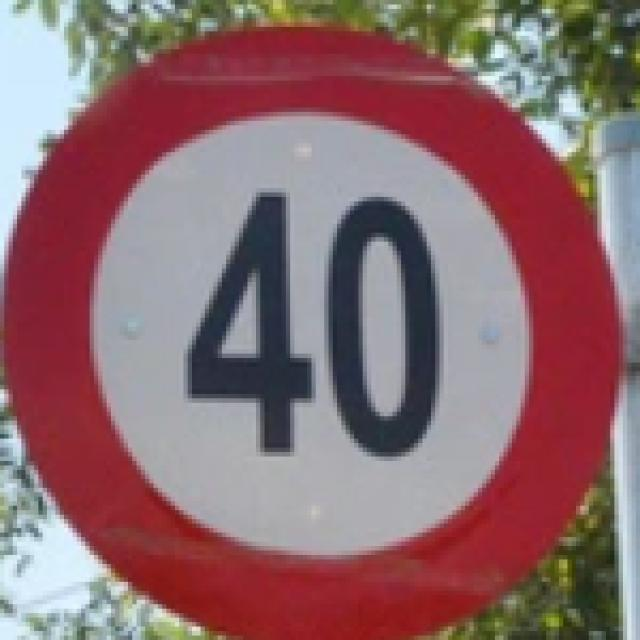Bien bao toc do toi da cho phep: (3, 4, 629, 640)
